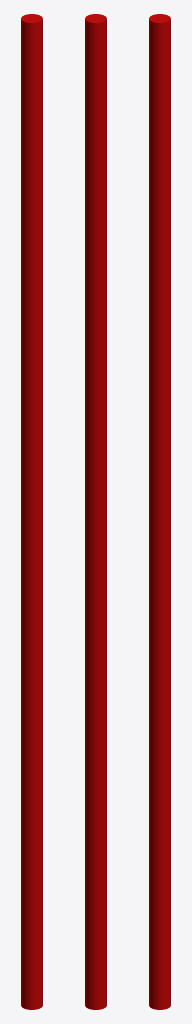
File: cable.obj
3 renders of one model, left to right at view 1: azimuth 90°, elevation 25°; view 2: azimuth 150°, elevation 25°; view 3: azimuth 270°, elevation 25°, orthographic.
Parts seen in each view (by area): view 1: Cylinder; view 2: Cylinder; view 3: Cylinder.
Boxes of the visible parts, x1,y1,x2,y2 form: Cylinder: (21,14,42,1009); Cylinder: (85,14,106,1009); Cylinder: (149,14,170,1009).
Bounding box in the file's own units: 0.04 × 2 × 0.04.
